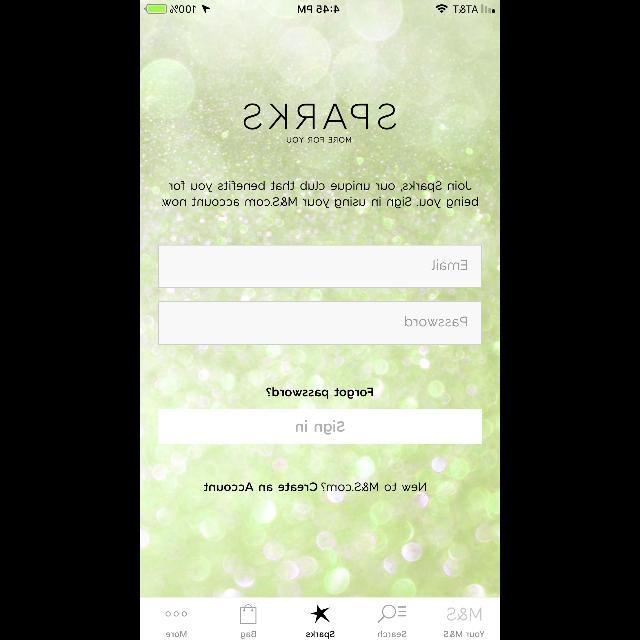backgroundimage: (140, 1, 500, 597)
icon: (378, 605, 406, 623), (310, 604, 330, 624), (240, 604, 256, 624), (165, 612, 187, 616)
input: (158, 246, 482, 288), (158, 302, 482, 344)
text: (162, 181, 478, 209), (244, 104, 396, 130), (204, 482, 426, 492), (266, 387, 374, 399), (405, 316, 467, 326), (447, 608, 481, 620), (287, 137, 351, 143), (431, 260, 467, 270), (444, 630, 484, 638), (306, 631, 334, 639), (378, 631, 406, 637), (240, 631, 256, 639), (166, 631, 186, 637)
textbutton: (158, 410, 482, 444)
uppertaskbar: (140, 0, 500, 14)
